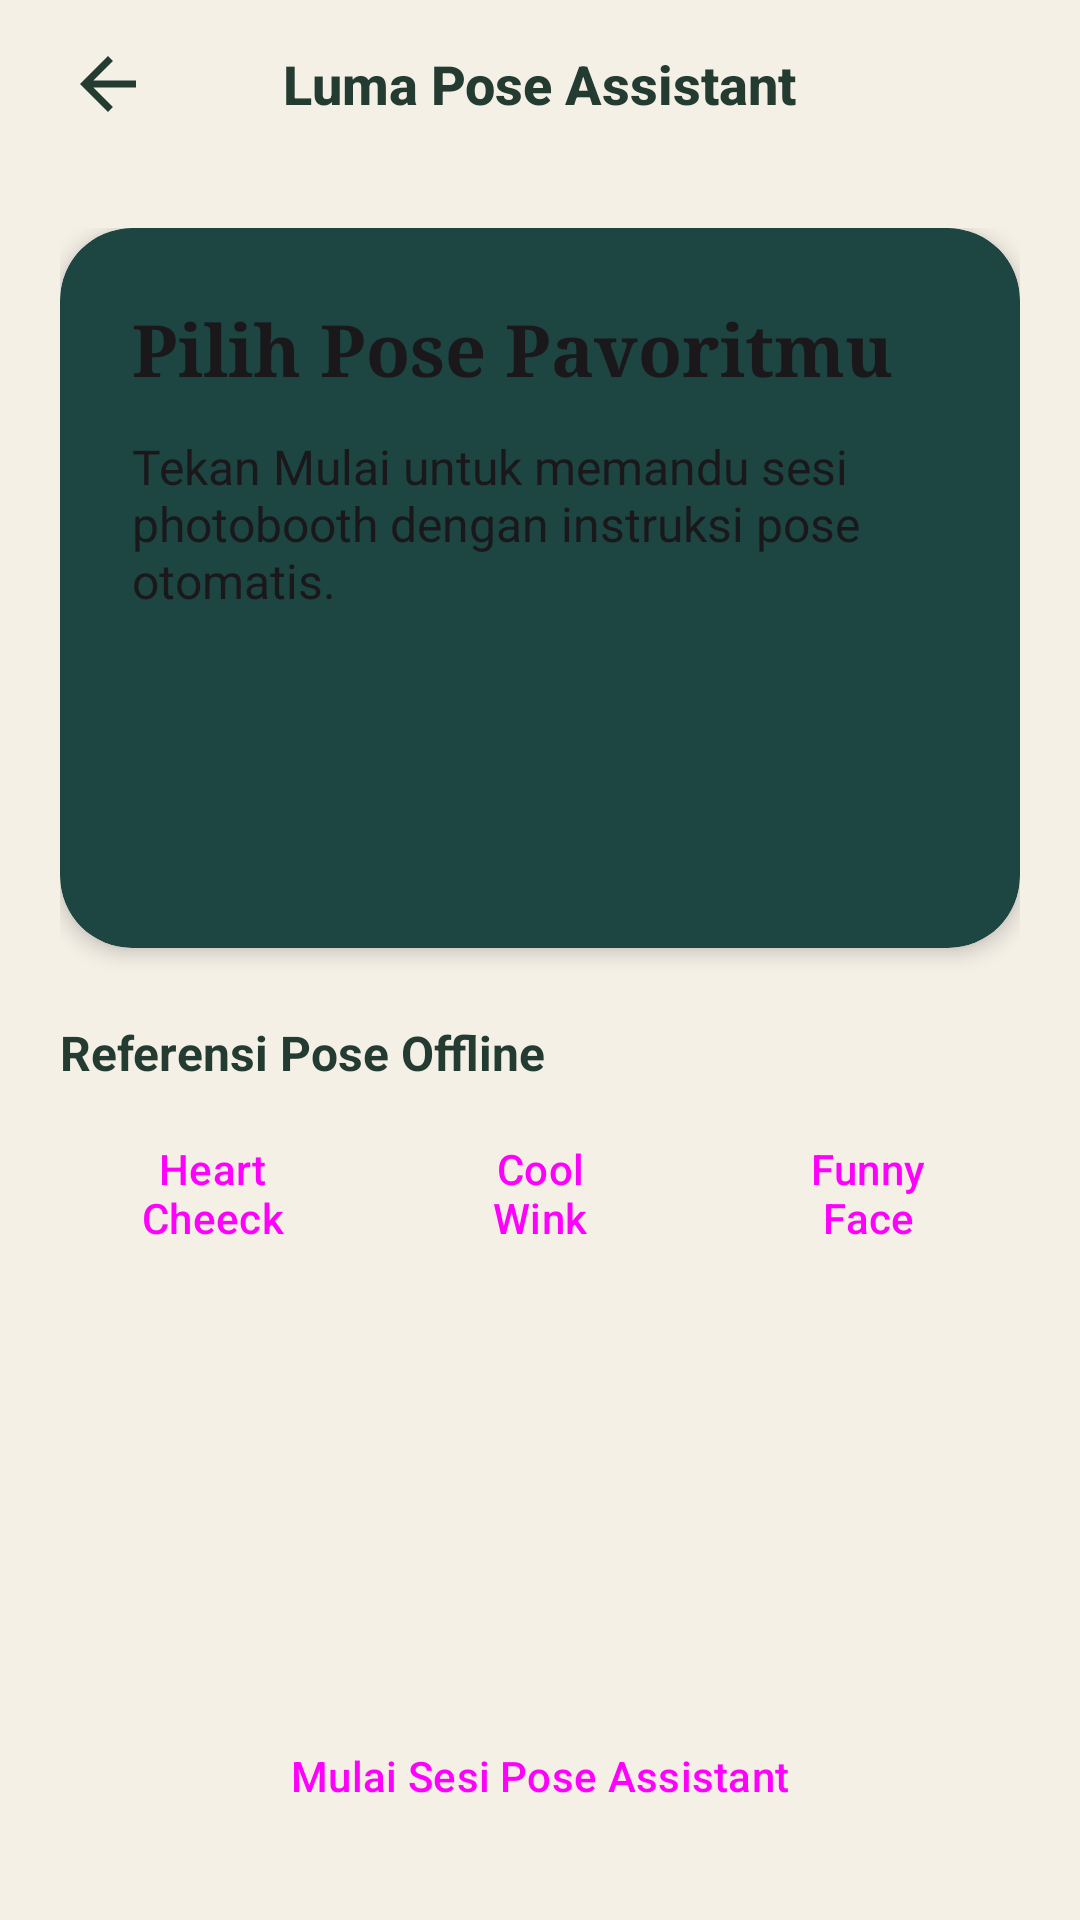

Locate icon controls on the screen. Image size 1080 × 1920, boxes as (x1, y1, x2, y2).
Kembali: (80, 56, 136, 112)
